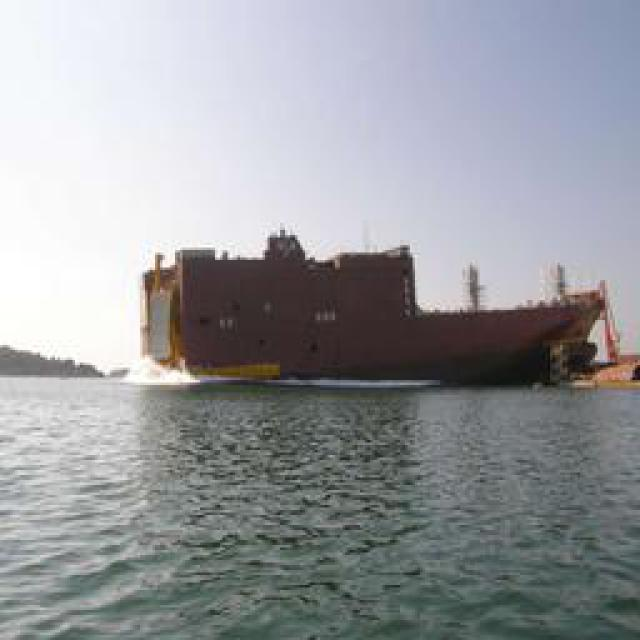Ship: (130, 239, 608, 389)
